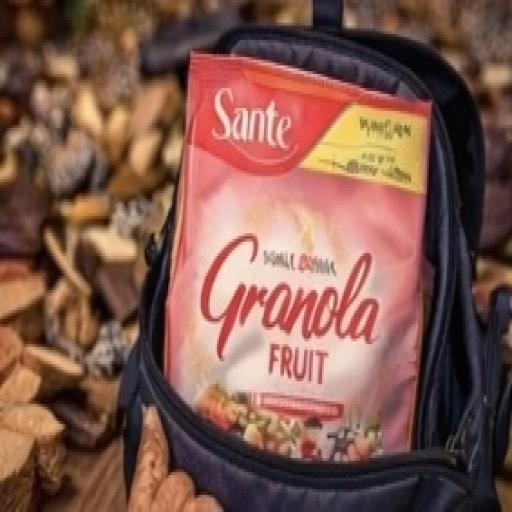granola: (168, 34, 461, 506)
